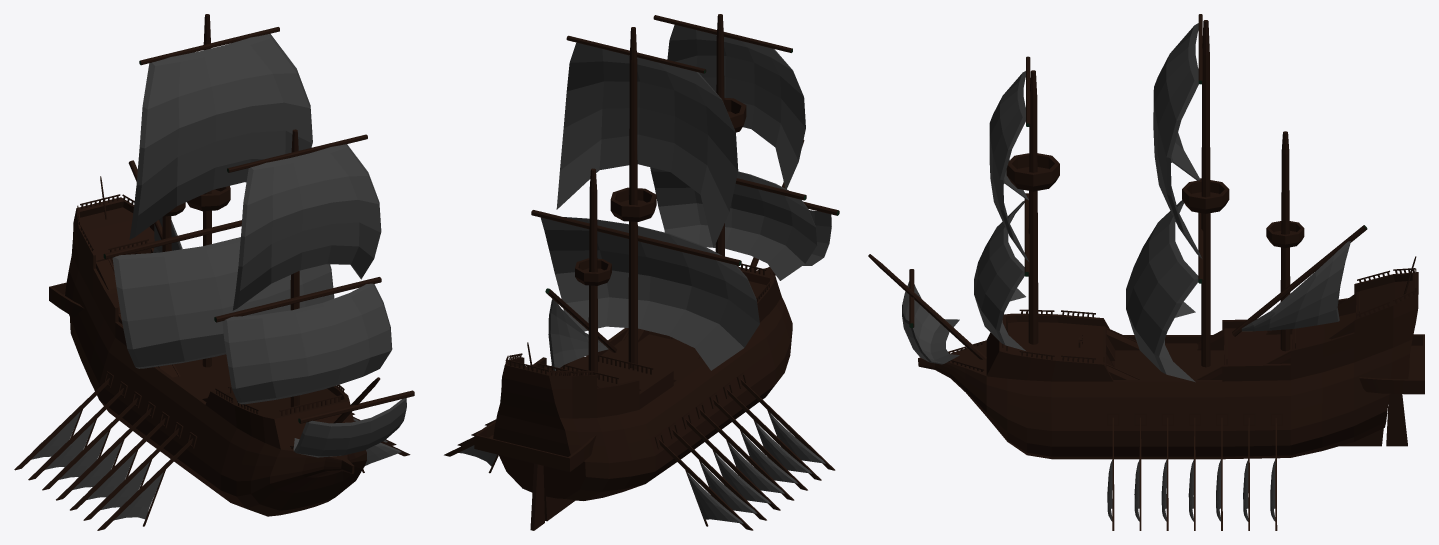
Rendered from Ship_Large02_FBX.fbx.
3 views of the same model, side by side, from view 1: azimuth 30°, elevation 25°; view 2: azimuth 150°, elevation 25°; view 3: azimuth 270°, elevation 25° (orthographic).
Parts seen in each view (by area): view 1: Box047, Box051, Box052, Box053, Box054, Box081, Box059, Box057, Box082, Box056, Box058, Box402 (+17 smaller); view 2: Box047, Box051, Box053, Box054, Box052, Cylinder005, Box048, Box055, Cylinder007, Box057, Cylinder011, Box391 (+22 smaller); view 3: Box047, Box053, Box051, Box054, Box055, Box052, Cylinder005, Cylinder006, Box081, Box048, Cylinder010, Cylinder007 (+5 smaller).
Part boxes in pixels (left/top/right/bottom): Box047: left=65, top=197, right=366, bottom=516; Box051: left=129, top=33, right=312, bottom=239; Box052: left=232, top=144, right=381, bottom=310; Box053: left=112, top=237, right=334, bottom=368; Box054: left=222, top=283, right=392, bottom=404; Box081: left=293, top=398, right=406, bottom=457; Box059: left=214, top=277, right=381, bottom=322; Box057: left=103, top=220, right=241, bottom=259; Box082: left=298, top=390, right=414, bottom=423; Box056: left=139, top=27, right=279, bottom=65; Box058: left=227, top=134, right=367, bottom=172; Box402: left=97, top=438, right=192, bottom=530; Box047: left=493, top=266, right=792, bottom=500; Box051: left=556, top=42, right=738, bottom=247; Box053: left=541, top=217, right=759, bottom=370; Box054: left=650, top=167, right=817, bottom=280; Box052: left=667, top=25, right=805, bottom=190; Cylinder005: left=628, top=27, right=637, bottom=369; Box048: left=474, top=420, right=596, bottom=471; Box055: left=548, top=299, right=608, bottom=370; Cylinder007: left=588, top=168, right=597, bottom=377; Box057: left=531, top=210, right=741, bottom=265; Cylinder011: left=610, top=187, right=656, bottom=221; Box391: left=687, top=472, right=743, bottom=523; Box047: left=918, top=272, right=1418, bottom=459; Box053: left=1126, top=200, right=1198, bottom=382; Box051: left=1153, top=23, right=1202, bottom=258; Box054: left=974, top=200, right=1025, bottom=350; Box055: left=1241, top=241, right=1350, bottom=331; Box052: left=989, top=71, right=1028, bottom=261; Cylinder005: left=1201, top=20, right=1210, bottom=367; Cylinder006: left=1028, top=70, right=1038, bottom=344; Box081: left=902, top=281, right=959, bottom=364; Box048: left=1359, top=334, right=1424, bottom=394; Cylinder010: left=1006, top=153, right=1059, bottom=191; Cylinder007: left=1280, top=131, right=1290, bottom=351.
Bounding box in the file's own units: 6853 × 9430 × 10759.
